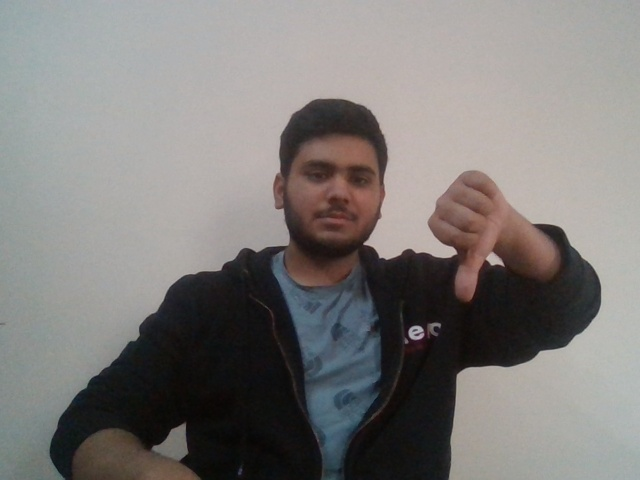No: (414, 166, 506, 307)
